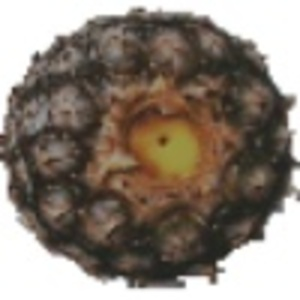abacaxi: (2, 9, 289, 278)
